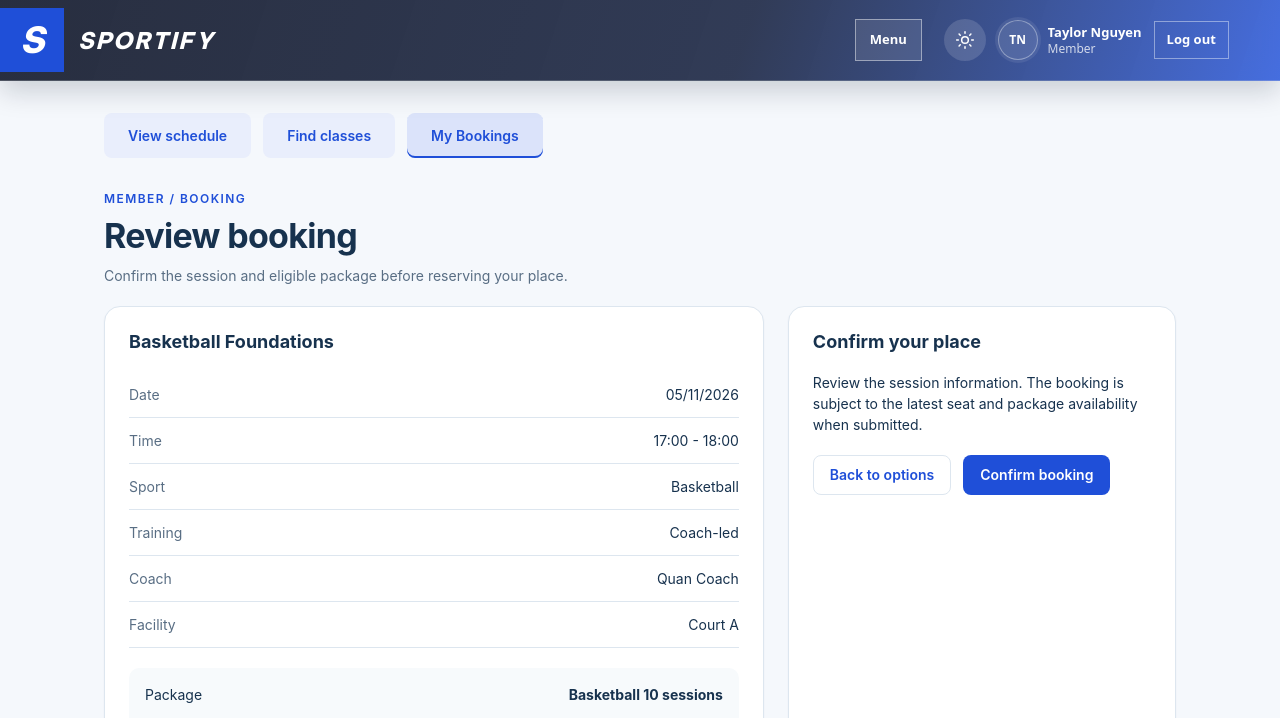
FE-09 member booking screens › reconciles a server error against Upcoming history before declaring the booking confirmed
The image size is (1280, 718).
Click the button "Confirm booking".
click(1037, 475)  # box [963,455,1110,495]
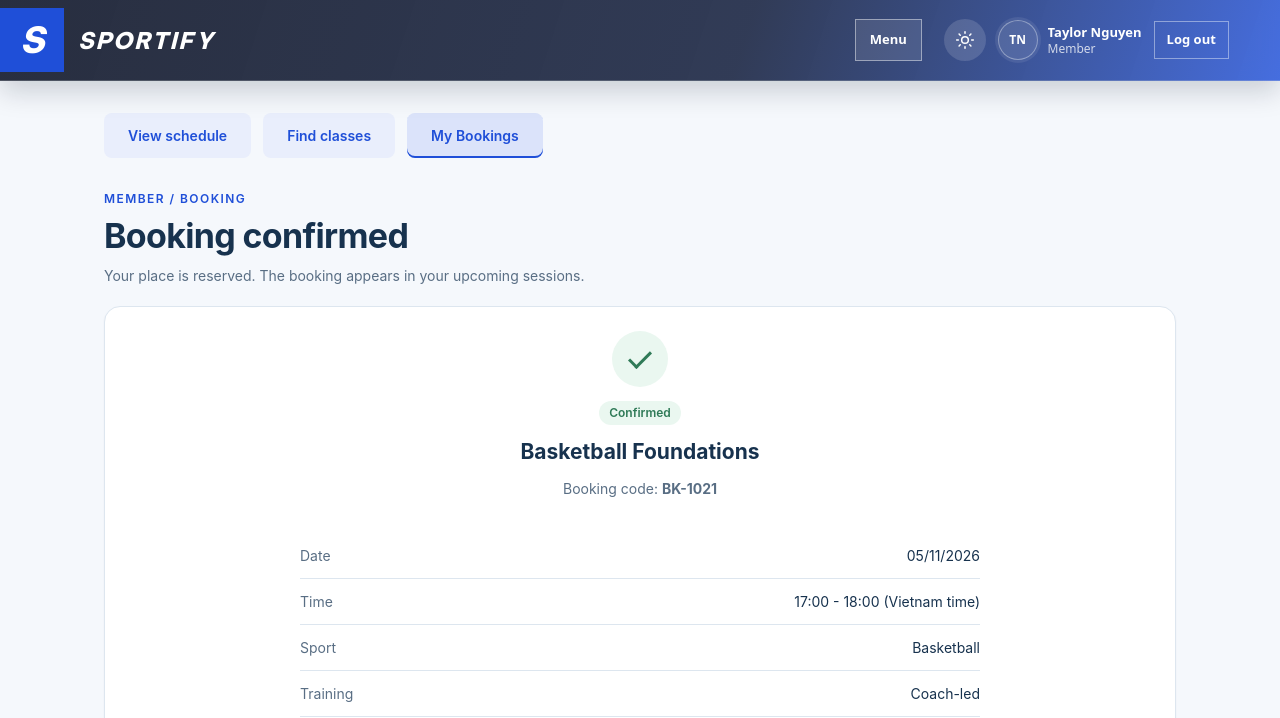
Now the heading "Booking confirmed" is shown, box [104,215,408,256]
Now the text "BK-1021" is shown, box [662,480,717,497]
